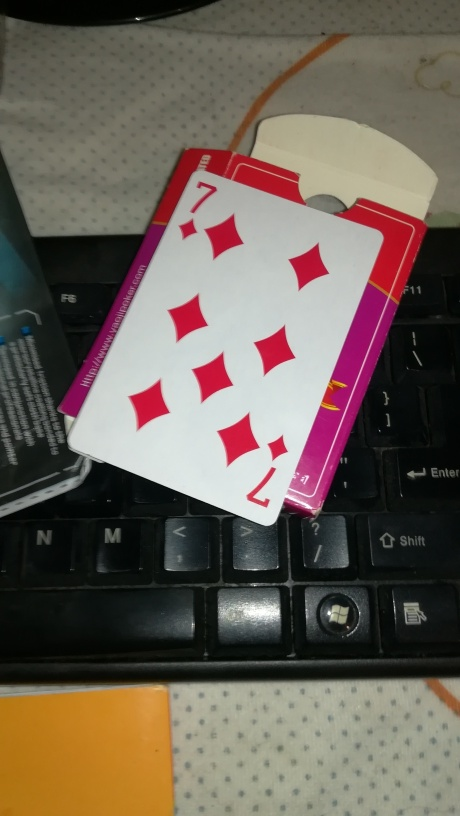fk 7: (66, 166, 382, 527)
